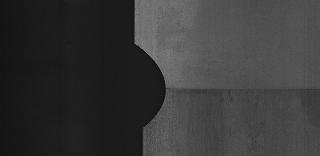welding line: (158, 82, 320, 95)
